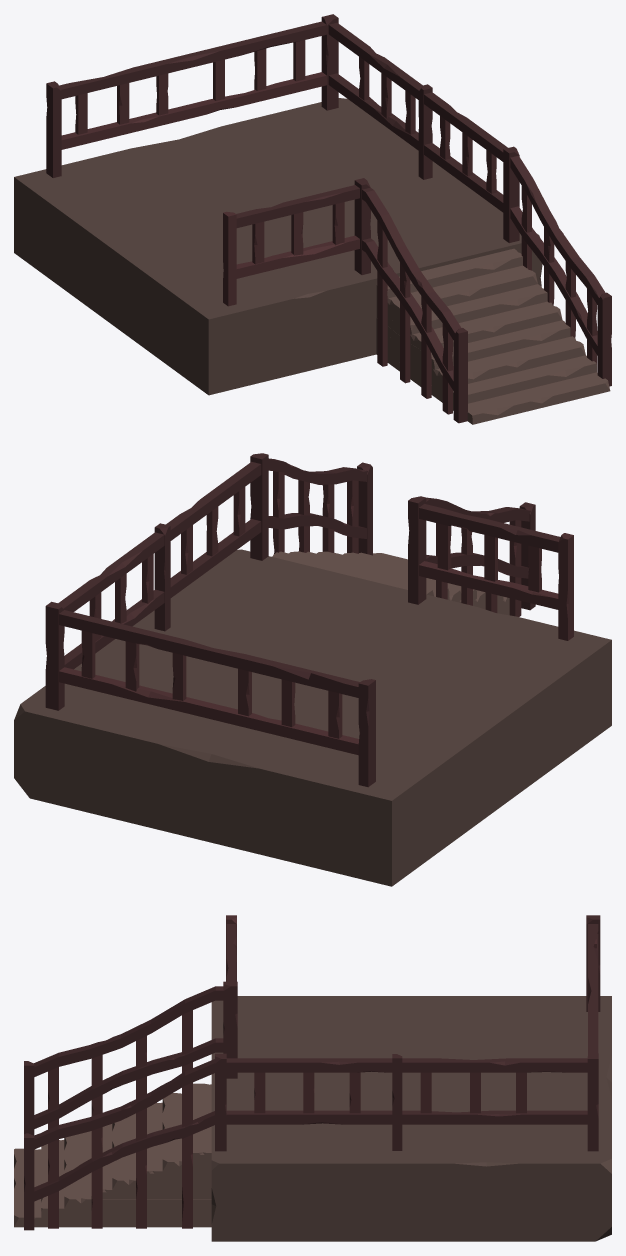
Rendered from SM_Env_Stair_04.fbx.
3 renders of one model, top to bottom at view 1: azimuth 30°, elevation 25°; view 2: azimuth 150°, elevation 25°; view 3: azimuth 270°, elevation 25°, orthographic. The views are drawn at different scales.
Parts seen in each view (by area): view 1: SM_Env_Stair_04; view 2: SM_Env_Stair_04; view 3: SM_Env_Stair_04.
Boxes of the visible parts, x1,y1,x2,y2 form: SM_Env_Stair_04: (14, 14, 611, 424); SM_Env_Stair_04: (14, 453, 611, 886); SM_Env_Stair_04: (14, 915, 611, 1241).
Size of the model in its own units: 147 by 70.18 by 221.
Materials: 1 (1 with a texture image).
